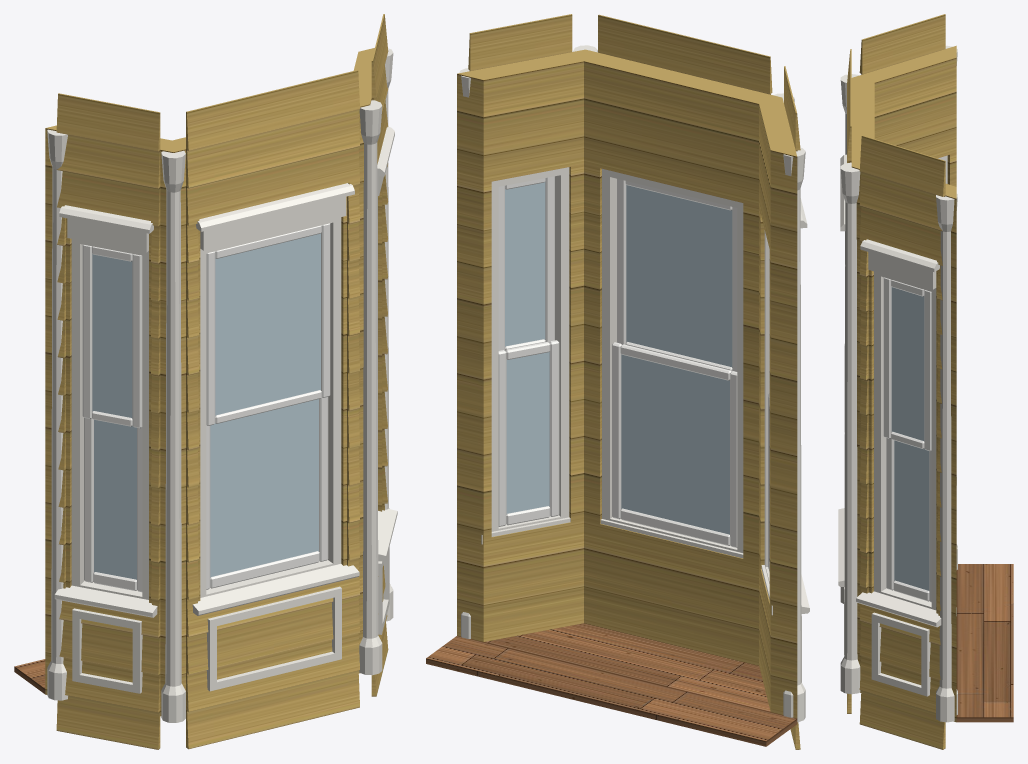
File: bay_g_a.glb
The picture shows the model from 3 angles, left to right: view 1: azimuth 30°, elevation 25°; view 2: azimuth 150°, elevation 25°; view 3: azimuth 270°, elevation 25°; orthographic projection. The views are drawn at different scales.
Visible parts, largest first — view 1: bay_g_a_siding_a, bay_g_a_trim, bay_g_a_glass, bay_g_a_sash, bay_g_a_frame, bay_g_a_floor; view 2: bay_g_a_siding_a, bay_g_a_glass, bay_g_a_floor, bay_g_a_frame, bay_g_a_sash, bay_g_a_trim; view 3: bay_g_a_siding_a, bay_g_a_trim, bay_g_a_glass, bay_g_a_floor, bay_g_a_frame, bay_g_a_sash.
Part boxes in pixels (left/top/right/bottom): bay_g_a_siding_a: left=45, top=14, right=388, bottom=749; bay_g_a_trim: left=47, top=48, right=397, bottom=722; bay_g_a_glass: left=92, top=233, right=320, bottom=579; bay_g_a_sash: left=82, top=223, right=330, bottom=592; bay_g_a_frame: left=71, top=196, right=377, bottom=599; bay_g_a_floor: left=14, top=659, right=45, bottom=694; bay_g_a_siding_a: left=457, top=14, right=800, bottom=749; bay_g_a_glass: left=505, top=182, right=732, bottom=534; bay_g_a_floor: left=426, top=623, right=797, bottom=746; bay_g_a_frame: left=491, top=167, right=769, bottom=583; bay_g_a_sash: left=498, top=176, right=769, bottom=571; bay_g_a_trim: left=459, top=45, right=809, bottom=722; bay_g_a_siding_a: left=847, top=14, right=956, bottom=749; bay_g_a_trim: left=838, top=45, right=957, bottom=722; bay_g_a_glass: left=891, top=287, right=929, bottom=590; bay_g_a_floor: left=956, top=564, right=1013, bottom=722; bay_g_a_frame: left=874, top=155, right=947, bottom=610; bay_g_a_sash: left=883, top=277, right=931, bottom=602.
Size of the model in its own units: 1.92 by 3.4 by 0.92.
6 materials, 2 textured.
